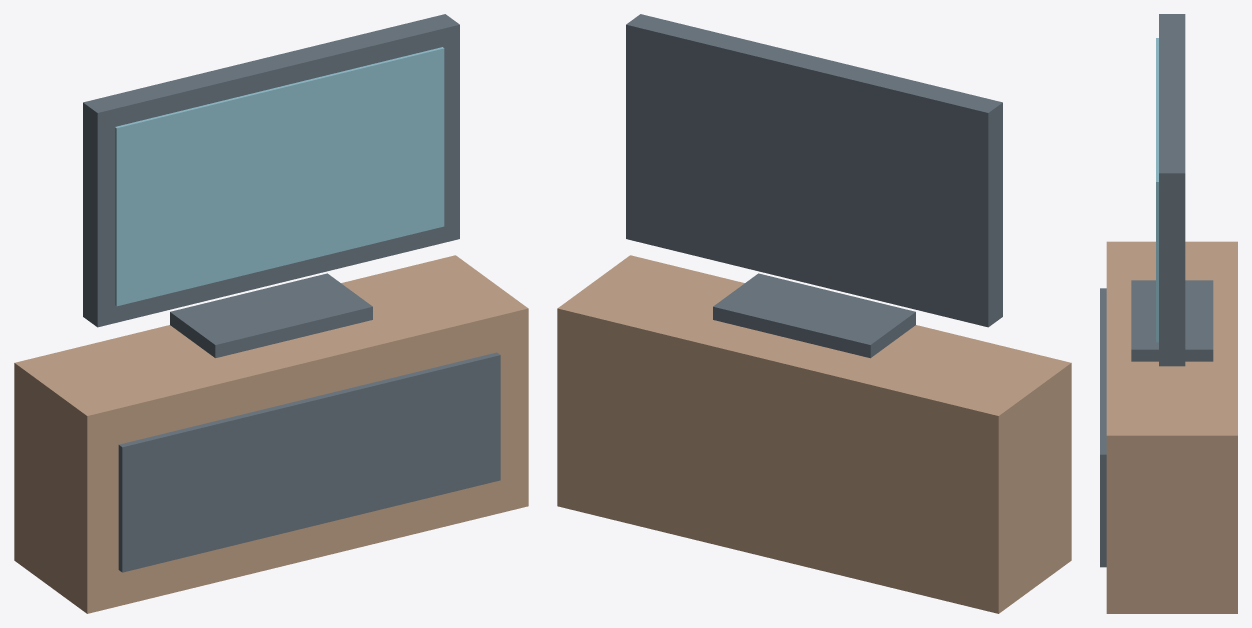
The model's file is tv_stand.glb.
The picture shows the model from 3 angles, left to right: view 1: azimuth 30°, elevation 25°; view 2: azimuth 150°, elevation 25°; view 3: azimuth 270°, elevation 25°; orthographic projection. The views are drawn at different scales.
Visible parts, largest first — view 1: tv_stand_000, tv_stand_004, tv_stand_001, tv_stand_003, tv_stand_002; view 2: tv_stand_000, tv_stand_003, tv_stand_002; view 3: tv_stand_000, tv_stand_003, tv_stand_002, tv_stand_001, tv_stand_004.
Part boxes in pixels (left/top/right/bottom): tv_stand_000: left=14, top=255, right=528, bottom=613; tv_stand_004: left=115, top=47, right=444, bottom=306; tv_stand_001: left=118, top=352, right=500, bottom=572; tv_stand_003: left=83, top=14, right=459, bottom=327; tv_stand_002: left=170, top=273, right=372, bottom=358; tv_stand_000: left=557, top=255, right=1071, bottom=613; tv_stand_003: left=626, top=14, right=1002, bottom=327; tv_stand_002: left=713, top=273, right=915, bottom=358; tv_stand_000: left=1106, top=241, right=1237, bottom=613; tv_stand_003: left=1159, top=14, right=1185, bottom=366; tv_stand_002: left=1131, top=280, right=1213, bottom=361; tv_stand_001: left=1100, top=288, right=1106, bottom=567; tv_stand_004: left=1156, top=38, right=1158, bottom=342.
Bounding box in the file's own units: 1.4 × 1.43 × 0.42.
